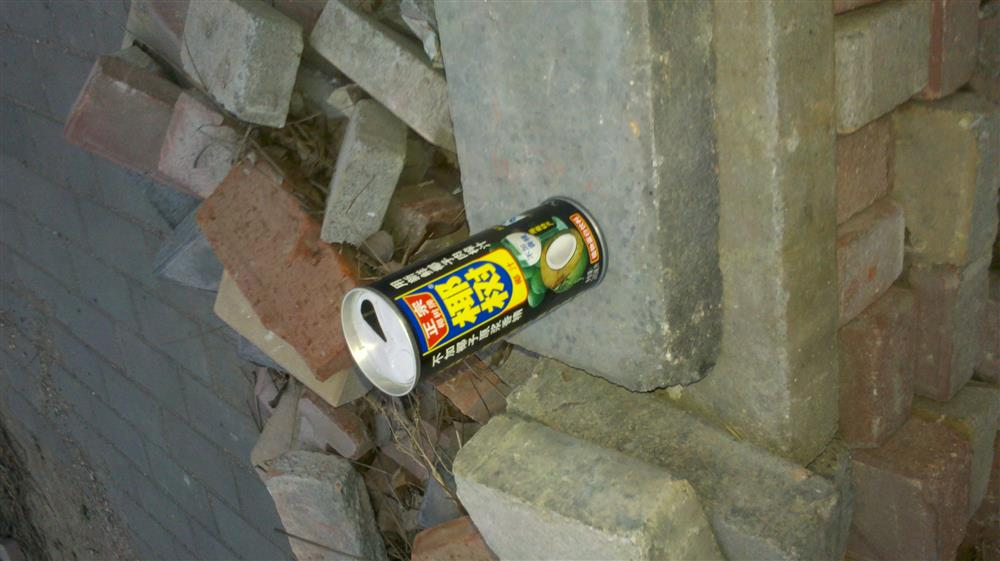coconut_juice: (339, 194, 608, 396)
